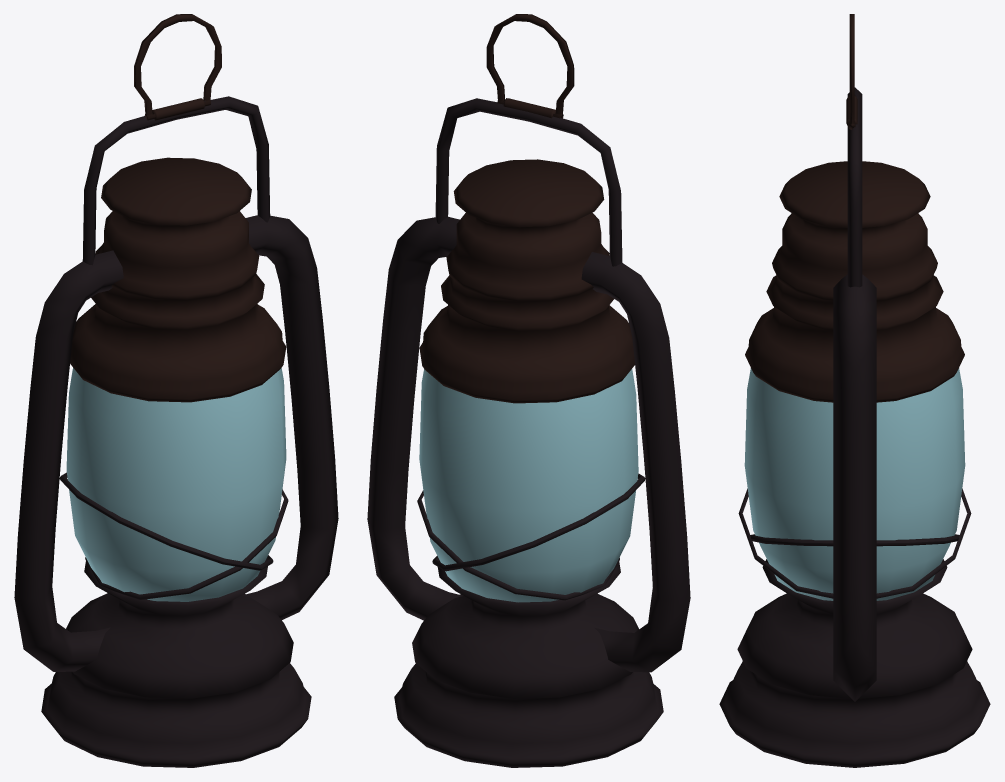
The model's file is lantern_lowpoly.dae.
The picture shows the model from 3 angles, left to right: view 1: azimuth 30°, elevation 25°; view 2: azimuth 150°, elevation 25°; view 3: azimuth 270°, elevation 25°; orthographic projection.
Visible parts, largest first — view 1: Glass, Top, Bottom, Lateral_handles, Top_handle, Handle, Circle_001, Circle, Top_ring; view 2: Glass, Top, Bottom, Lateral_handles, Top_handle, Handle, Circle_001, Circle; view 3: Bottom, Top, Glass, Lateral_handles, Top_handle, Circle_001, Circle, Handle.
Part boxes in pixels (box(x1,y1,x2,y2)): Glass: box(66, 368, 286, 601); Top: box(70, 157, 286, 402); Bottom: box(41, 560, 311, 767); Lateral_handles: box(14, 215, 338, 671); Top_handle: box(82, 96, 270, 265); Handle: box(134, 14, 221, 120); Circle_001: box(59, 472, 273, 570); Circle: box(85, 489, 288, 599); Top_ring: box(152, 98, 204, 120); Glass: box(419, 369, 638, 602); Top: box(419, 159, 634, 403); Bottom: box(394, 561, 663, 767); Lateral_handles: box(367, 216, 690, 672); Top_handle: box(435, 98, 622, 266); Handle: box(486, 14, 574, 118); Circle_001: box(432, 473, 645, 571); Circle: box(417, 490, 619, 600); Bottom: box(719, 559, 990, 767); Top: box(745, 161, 964, 402); Glass: box(744, 368, 965, 600); Lateral_handles: box(833, 274, 876, 701); Top_handle: box(847, 87, 862, 287); Circle_001: box(738, 488, 971, 598); Circle: box(750, 534, 959, 546); Handle: box(848, 14, 855, 129).
Bounding box in the file's own units: 3.08 × 2.25 × 6.36.
